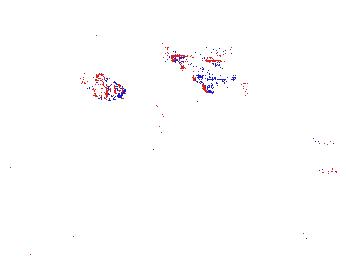X-ray fish: (136, 94, 168, 149), (89, 78, 127, 102), (69, 92, 99, 121)
red belly glassfish: (300, 164, 338, 181), (296, 136, 335, 151)
redtail glassfish: (167, 53, 246, 96), (157, 34, 237, 68)
